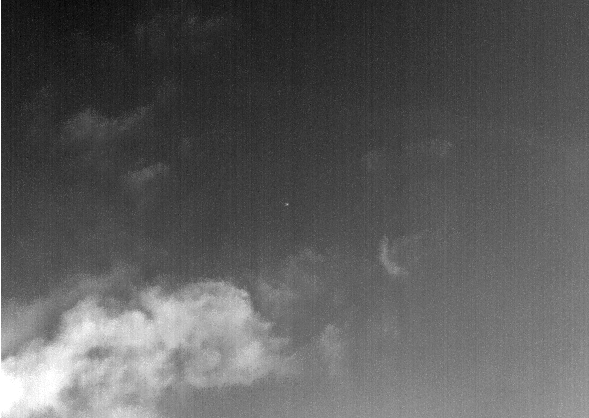dim target: (285, 201, 290, 207)
